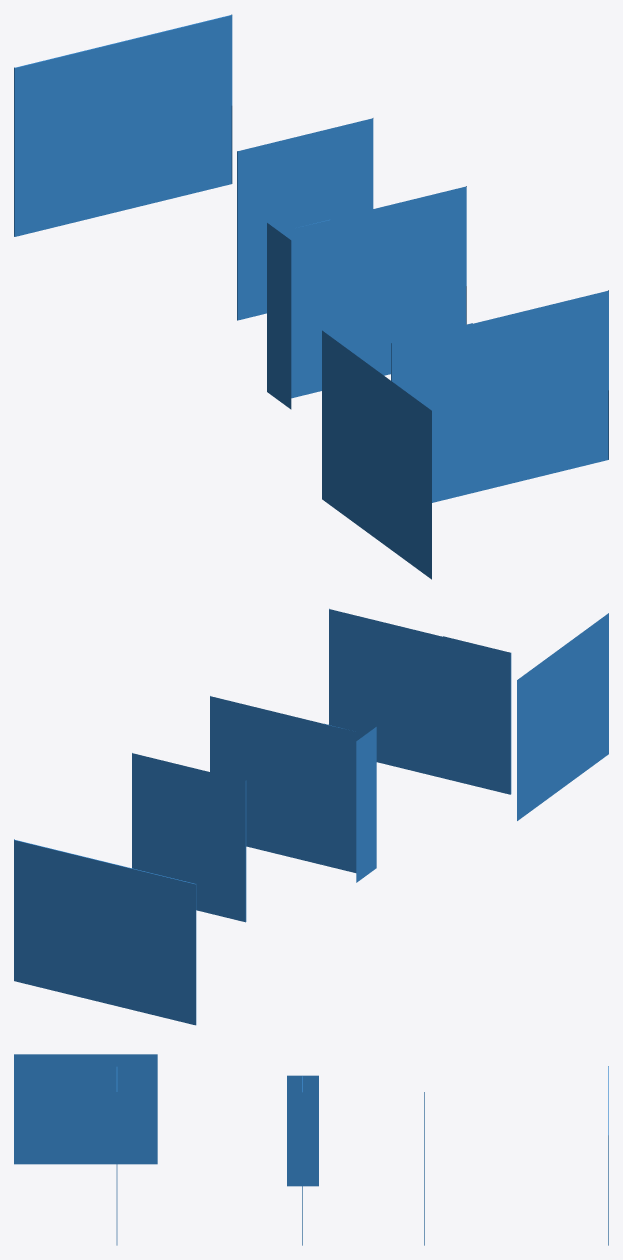
The model's file is floor_1.5_right.glb.
The picture shows the model from 3 angles, top to bottom: view 1: azimuth 30°, elevation 25°; view 2: azimuth 150°, elevation 25°; view 3: azimuth 270°, elevation 25°; orthographic projection. The views are drawn at different scales.
Visible parts, largest first — view 1: 立方体; view 2: 立方体; view 3: 立方体.
Part boxes in pixels (bbox=[...]): 立方体: bbox=[14, 14, 608, 579]; 立方体: bbox=[14, 608, 608, 1025]; 立方体: bbox=[14, 1054, 608, 1245].
Bounding box in the file's own units: 4.7 × 2.98 × 14.53.
